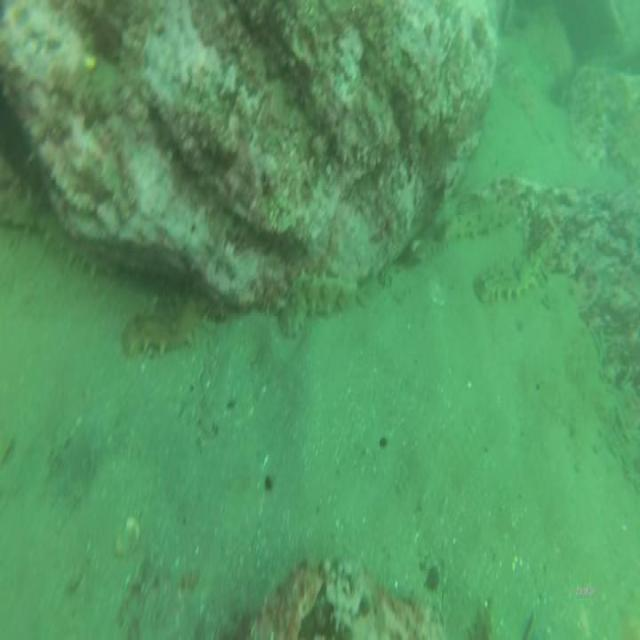holothurian: (2, 202, 122, 280), (123, 281, 215, 365), (476, 225, 561, 306), (277, 265, 359, 340), (438, 193, 526, 237)
